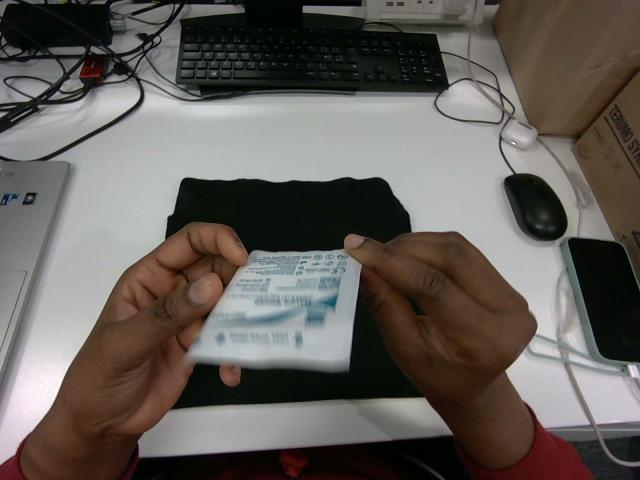gauze: (188, 250, 360, 371)
